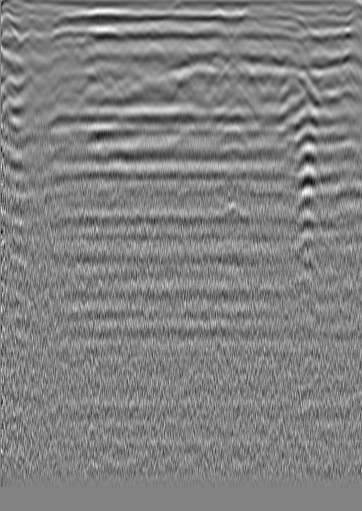가스: (219, 200, 243, 223)
상수: (301, 22, 321, 42)
오수: (19, 28, 39, 48)
우수: (143, 41, 163, 61)
